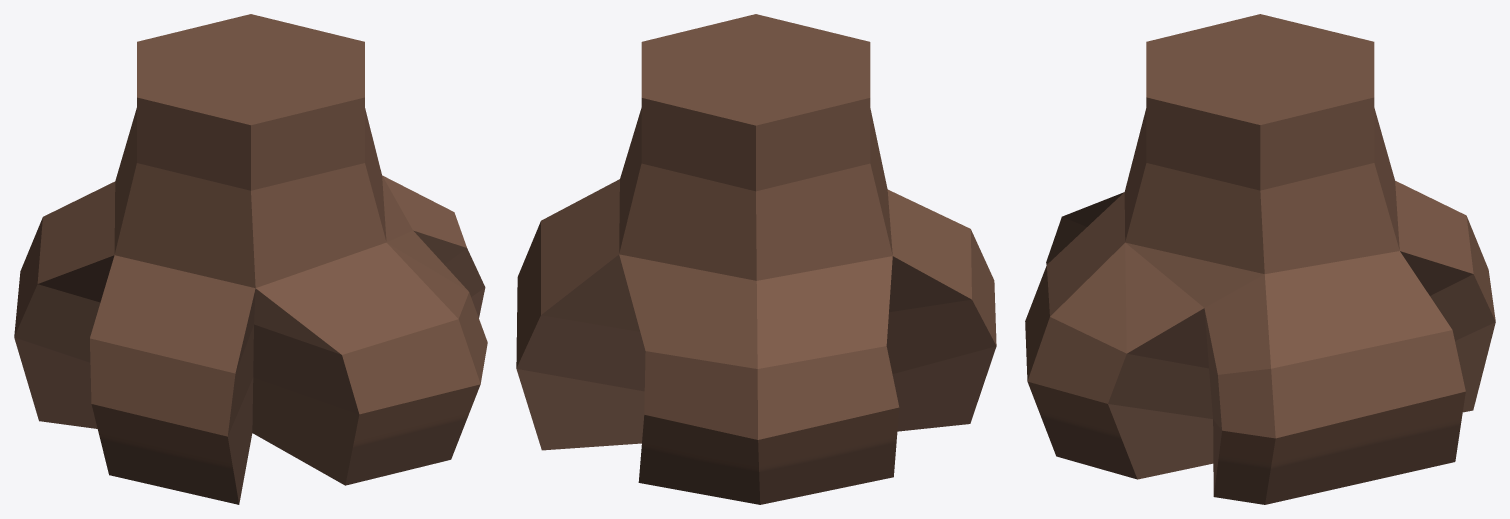
The model's file is SM_Wep_Bullet_Damaged_01.fbx.
3 renders of one model, left to right at view 1: azimuth 30°, elevation 25°; view 2: azimuth 150°, elevation 25°; view 3: azimuth 270°, elevation 25°, orthographic.
Visible parts, largest first — view 1: SM_Wep_Bullet_Damaged_01; view 2: SM_Wep_Bullet_Damaged_01; view 3: SM_Wep_Bullet_Damaged_01.
Part boxes in pixels (x1,y1,x2,y2): SM_Wep_Bullet_Damaged_01: [14, 14, 487, 504]; SM_Wep_Bullet_Damaged_01: [516, 14, 996, 504]; SM_Wep_Bullet_Damaged_01: [1025, 14, 1495, 504].
Bounding box in the file's own units: 2.56 × 2.05 × 2.44.
